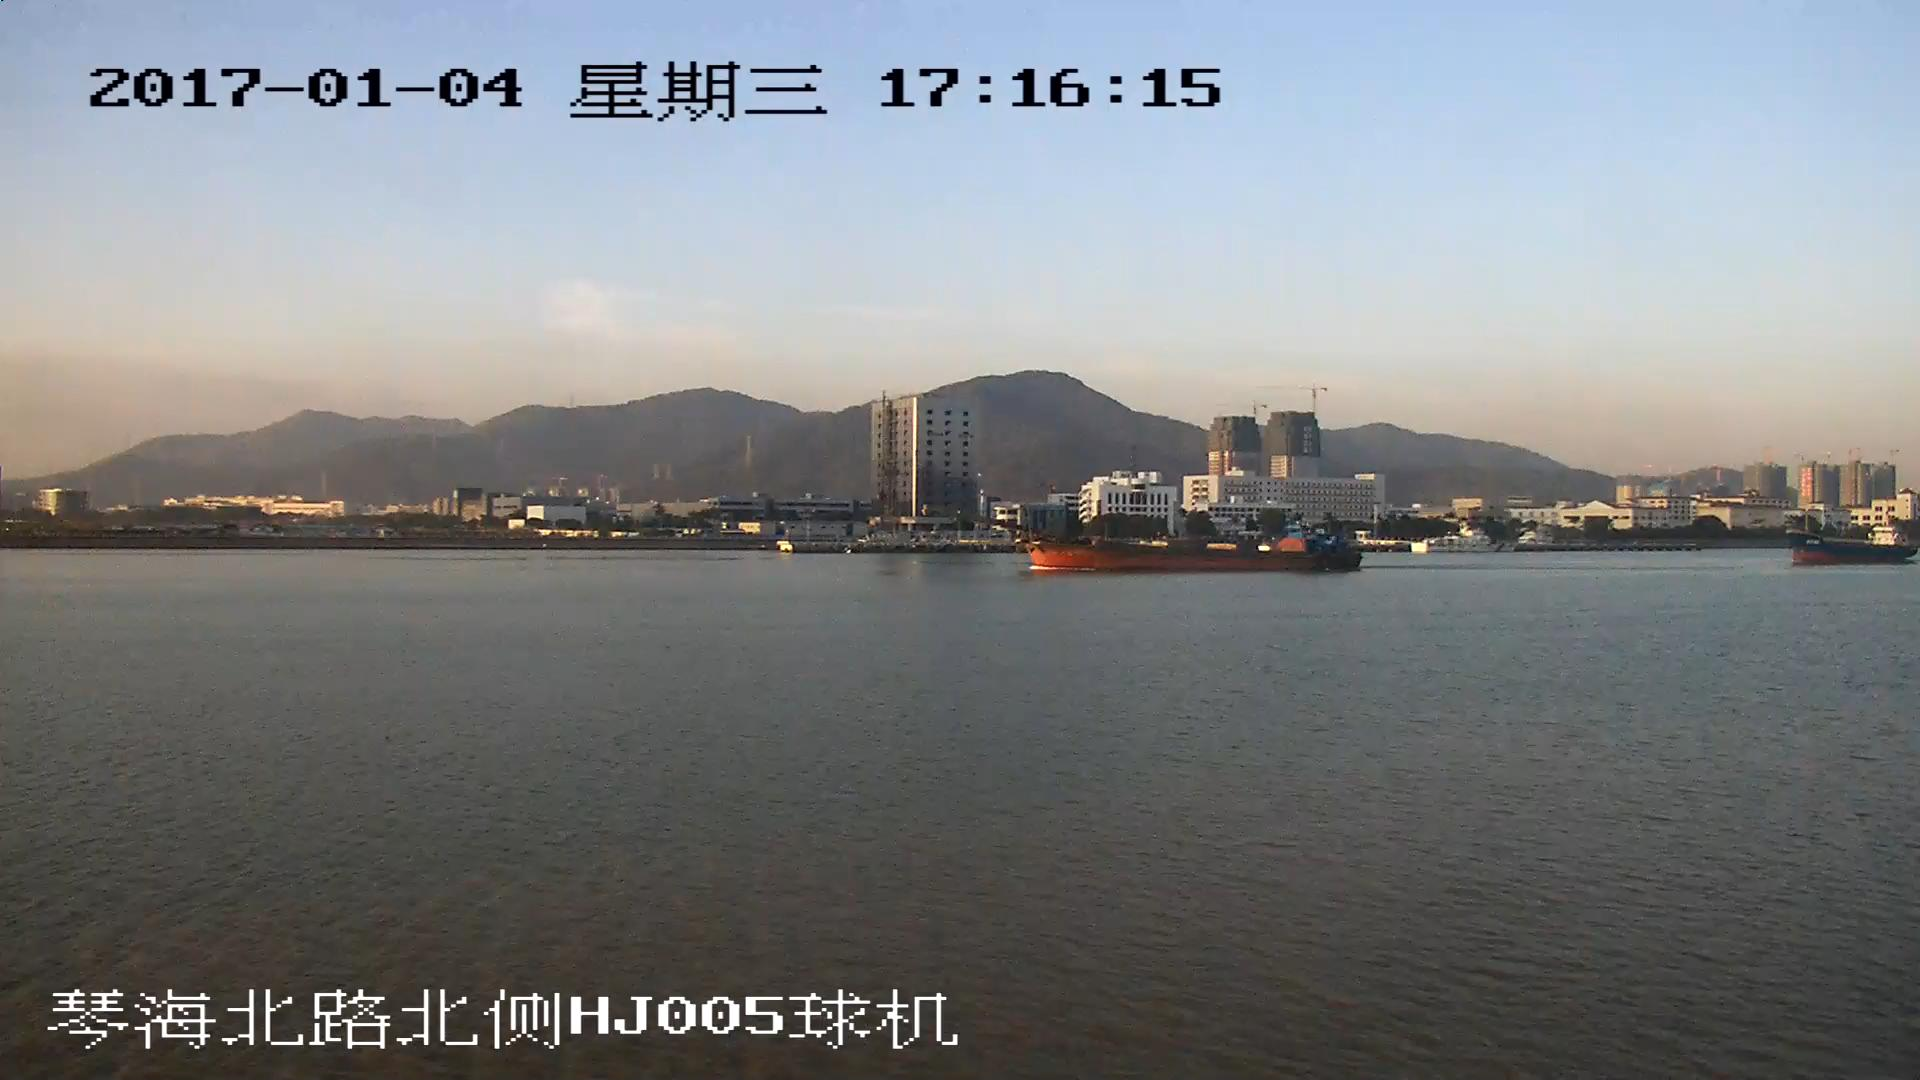bulk cargo carrier: (929, 505, 1361, 572)
